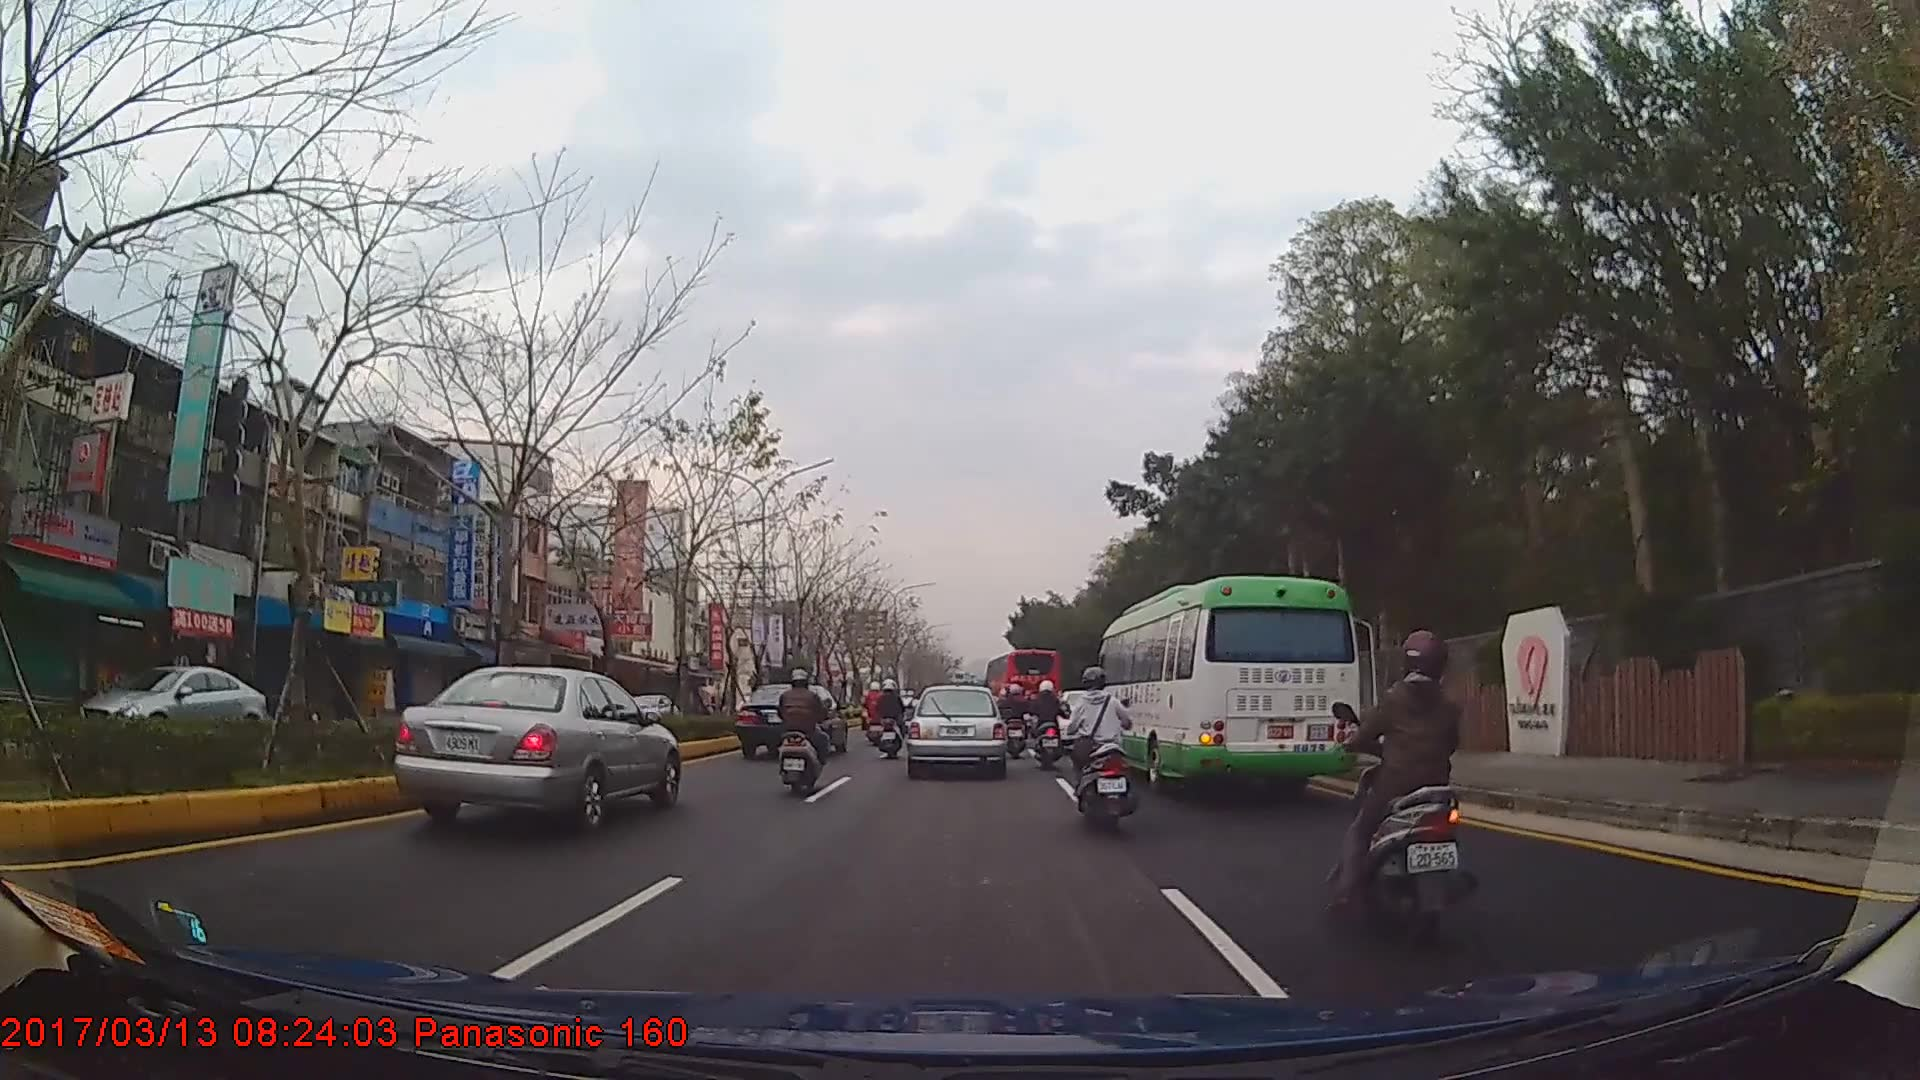rider: (1328, 627, 1472, 934), (1065, 666, 1134, 836), (775, 671, 835, 797), (1027, 679, 1065, 768), (873, 679, 907, 760), (997, 682, 1030, 759), (863, 683, 886, 746), (900, 692, 921, 741)
vehicle: (1089, 573, 1363, 790), (391, 662, 681, 833), (71, 657, 274, 754), (905, 684, 1007, 779), (736, 682, 848, 759), (984, 647, 1059, 733)
